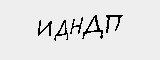Д: (80, 12, 104, 40), (55, 19, 71, 43)
И: (34, 19, 54, 38)
Н: (69, 15, 83, 37)
П: (104, 13, 123, 33)
